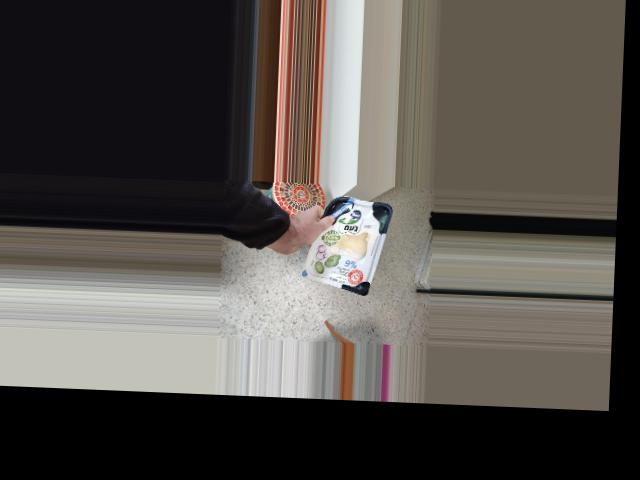cheese: (301, 193, 393, 291)
